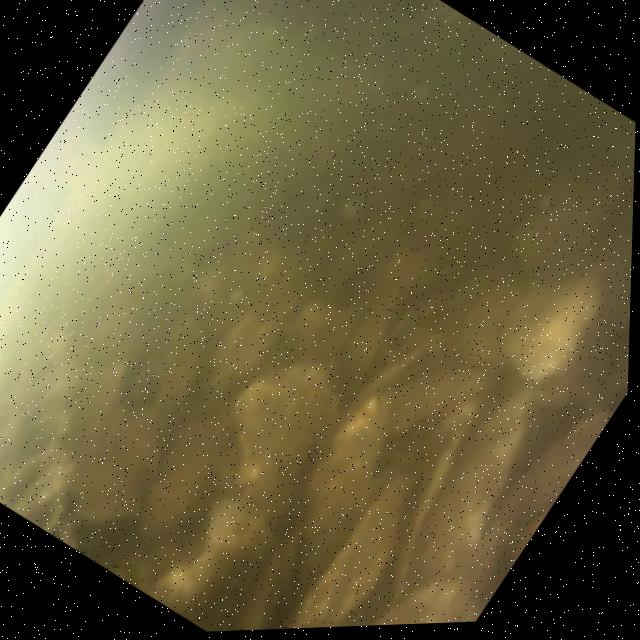Oyster-Closed: (236, 551, 285, 631)
Oyster-Indeterminate: (477, 414, 613, 605), (291, 392, 396, 607), (284, 465, 408, 629), (415, 398, 528, 575), (232, 366, 340, 532), (389, 425, 468, 596), (499, 274, 601, 393), (390, 371, 494, 435), (370, 580, 477, 626), (462, 288, 523, 366), (74, 455, 141, 523), (208, 500, 273, 546)
